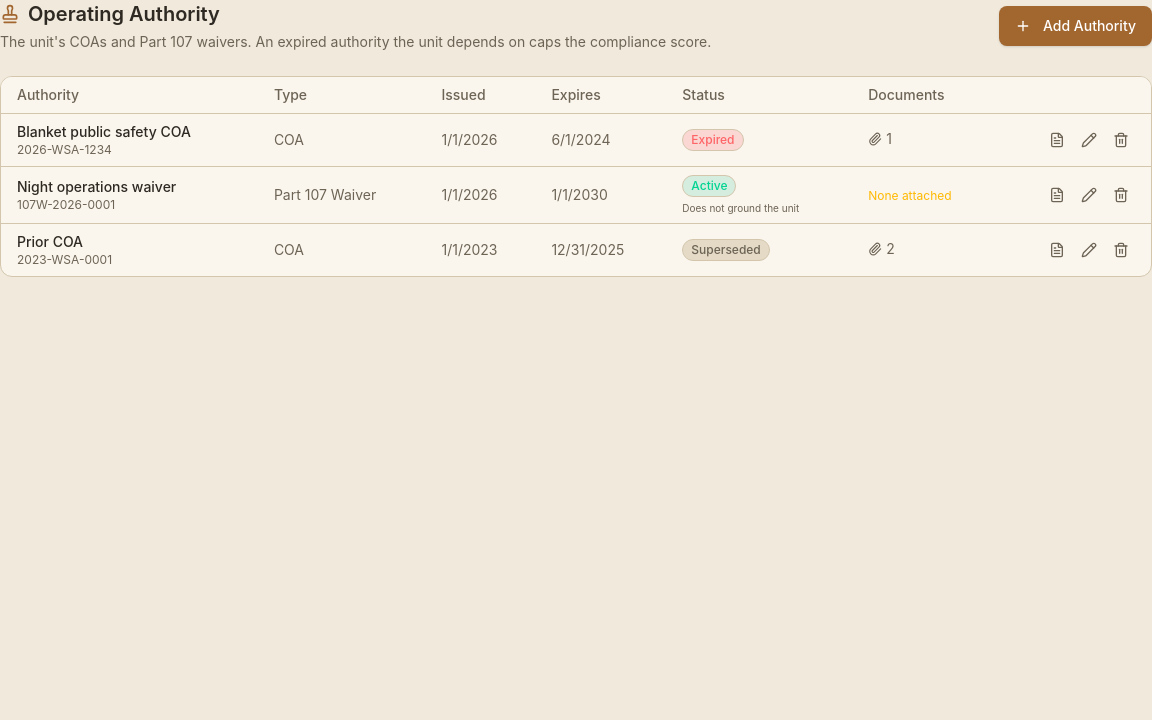
it: OperatingAuthorityPage › opens the edit form prefilled with the row it was opened from
Click the button named "Edit Night operations waiver": [1089, 195] box [1075,181,1103,209]
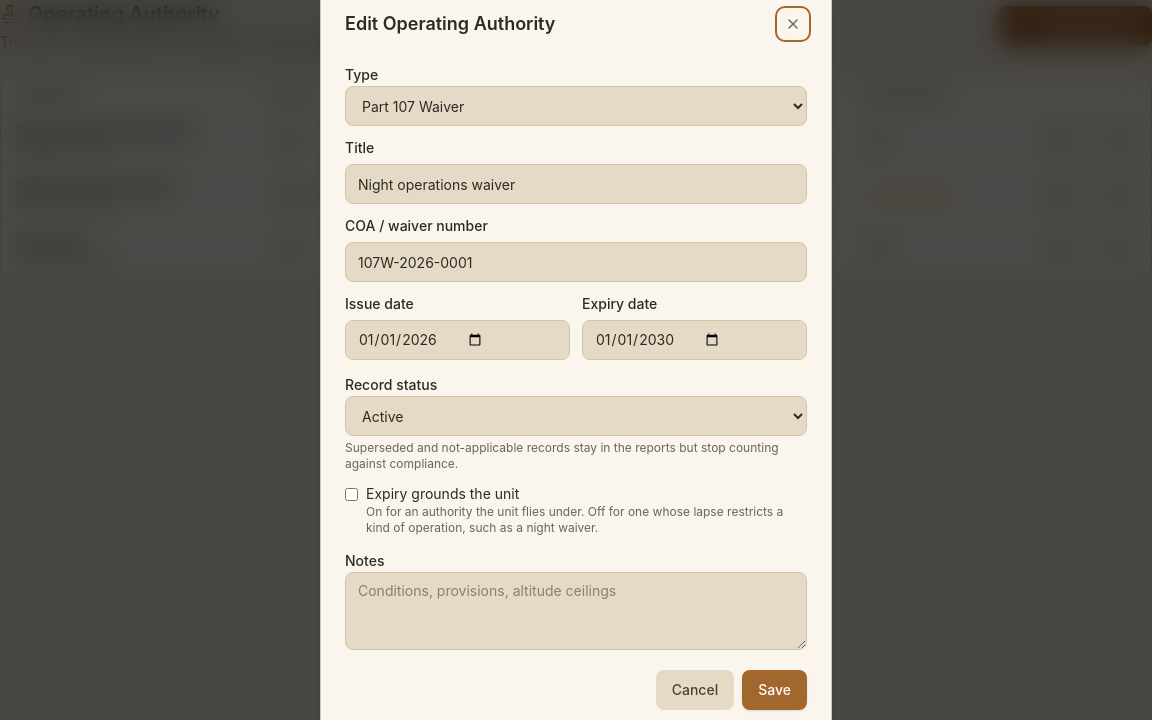
Expected: the field labelled "Title" holds "Night operations waiver", [345,164,807,204]
Expected: the field labelled "COA / waiver number" holds "107W-2026-0001", [345,242,807,282]
Expected: the dropdown labelled "Record status" shows "Active", [345,396,807,436]
